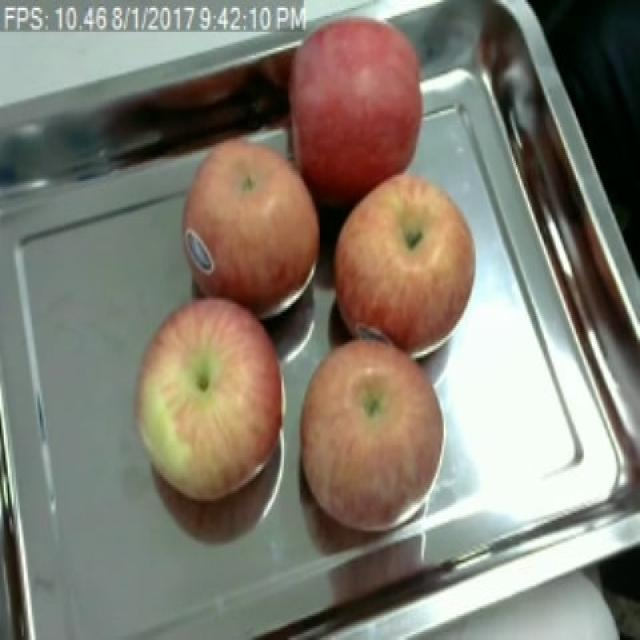Healty Apple: (135, 299, 286, 500), (300, 340, 445, 531), (332, 173, 476, 360), (287, 14, 423, 203), (182, 137, 318, 318)
